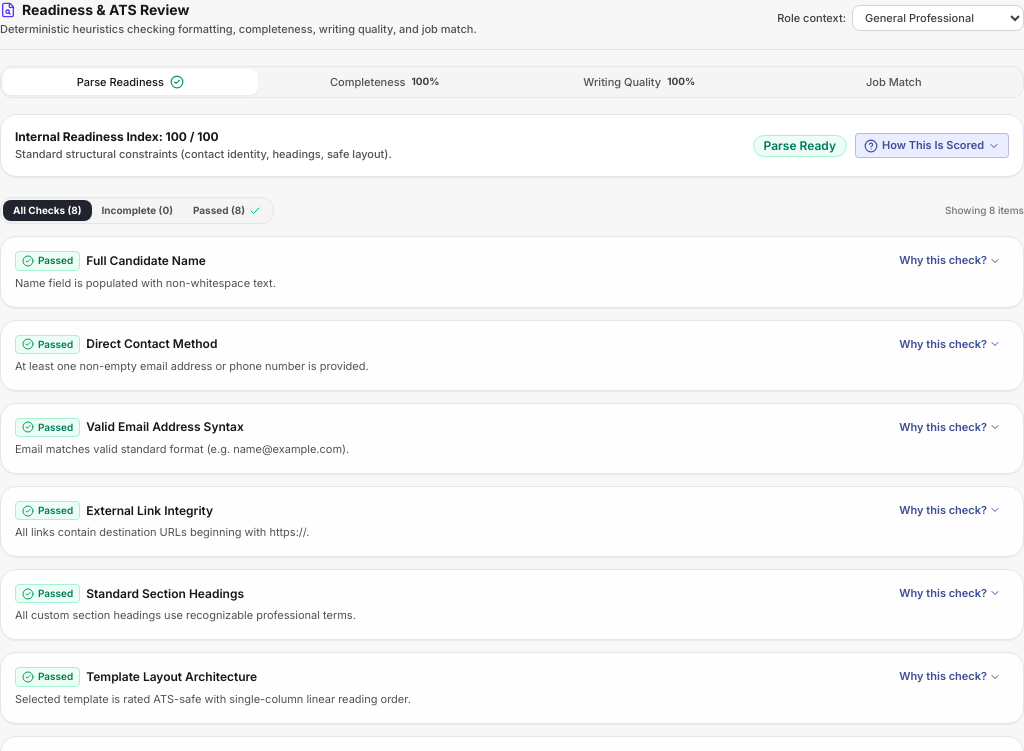
Test: RS-095: UI Explainability & Accessibility › expands check details to show what is evaluated, pass condition, and observed evidence
# Expand the first check details
Click the button "Why this check?" in the row of "Full Candidate Name" at (950, 261), box [891, 251, 1009, 270]
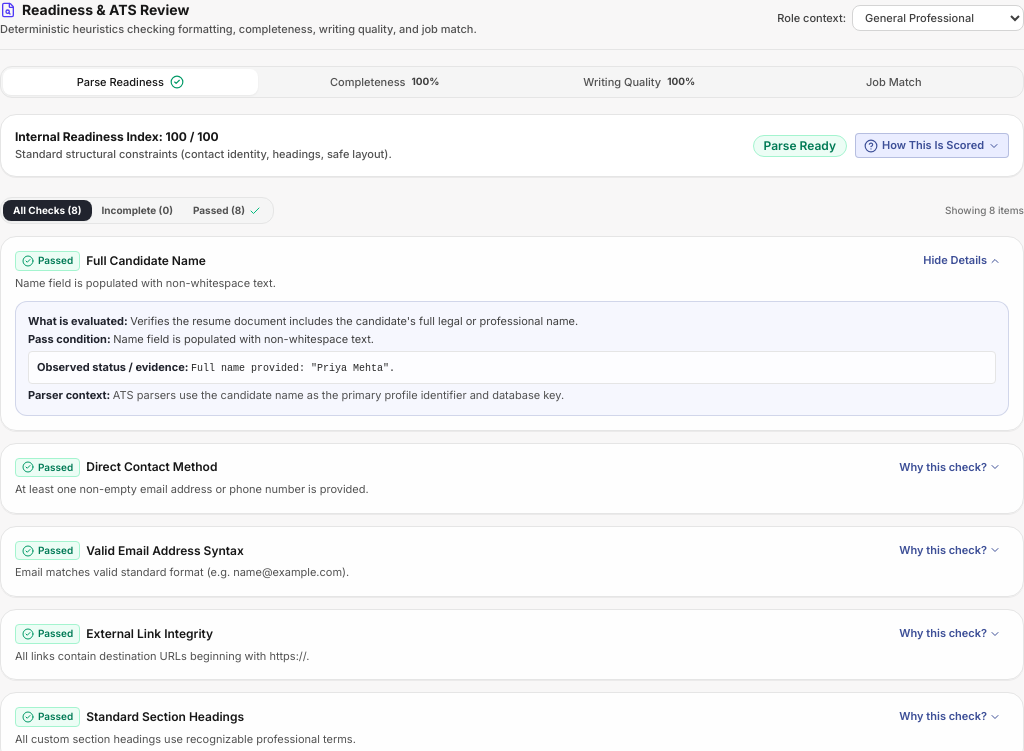
Result: the button named "Why this check?" is expanded at [915, 251, 1009, 270]
Result: the text "What is evaluated:" is shown at [28, 314, 130, 328]
Result: the text "Pass condition:" is shown at [28, 332, 113, 346]
